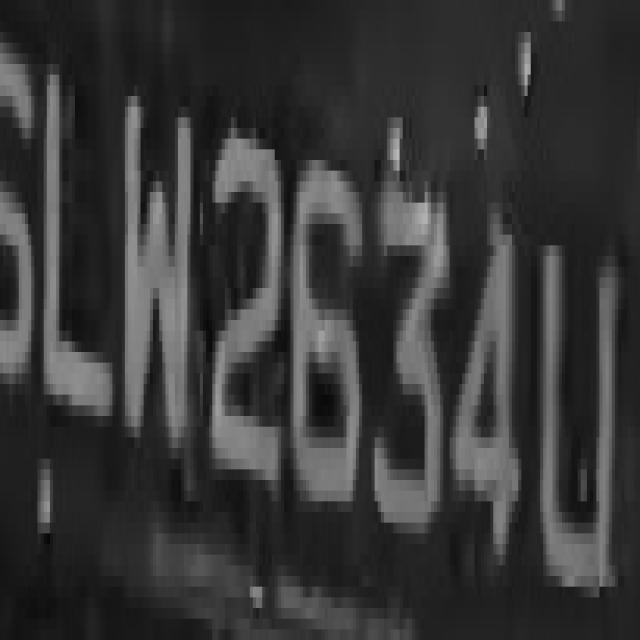2: (203, 85, 284, 523)
3: (371, 149, 456, 576)
4: (450, 170, 524, 586)
6: (278, 128, 371, 512)
L: (38, 53, 112, 448)
S: (6, 11, 41, 437)
U: (528, 202, 618, 618)
W: (109, 43, 200, 469)
